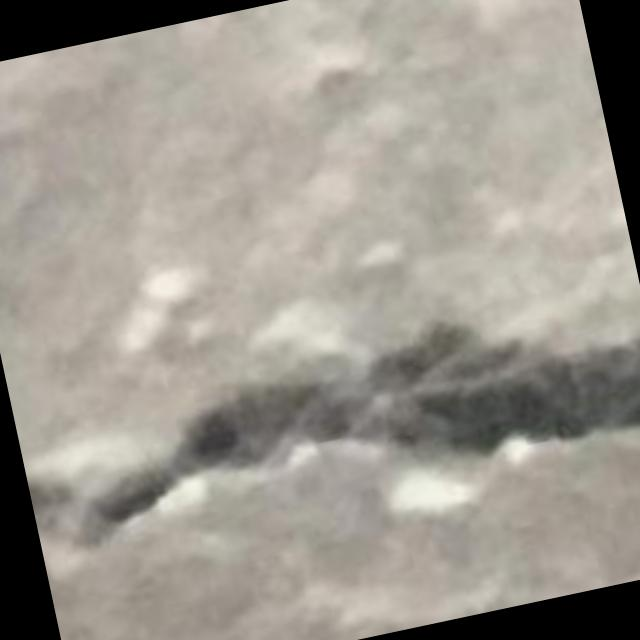crack: (27, 324, 639, 543)
